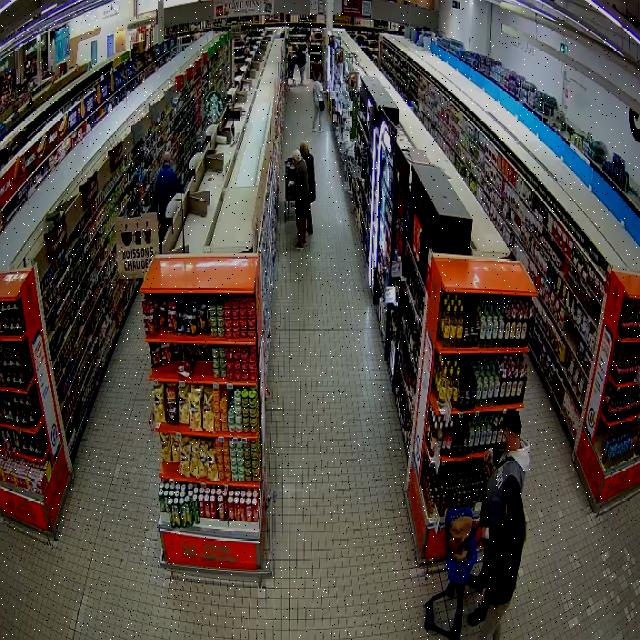article: (487, 459, 495, 476), (287, 179, 294, 186)
bags: (316, 92, 325, 111)
hands: (484, 449, 492, 462), (481, 527, 486, 538), (287, 185, 294, 191)
person: (467, 410, 529, 591), (480, 490, 525, 639), (287, 149, 309, 249), (300, 141, 316, 233), (468, 600, 488, 624)
